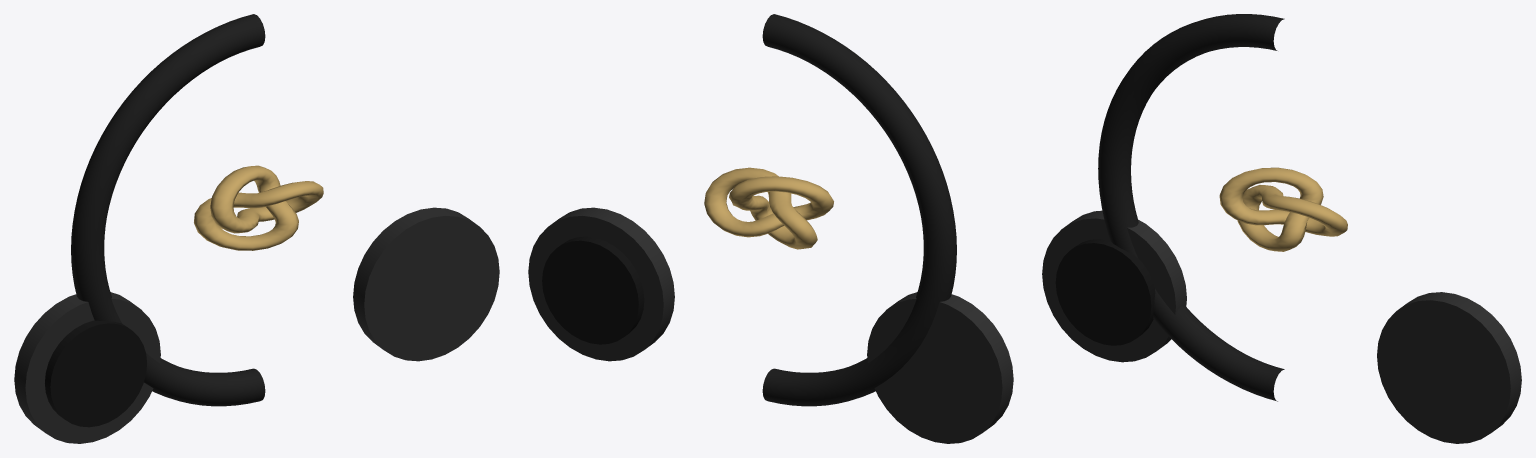
Rendered from headphones.glb.
The picture shows the model from 3 angles, left to right: view 1: azimuth 30°, elevation 25°; view 2: azimuth 150°, elevation 25°; view 3: azimuth 330°, elevation 25°; orthographic projection.
Size of the model in its own units: 2.94 by 2.28 by 0.3478.
